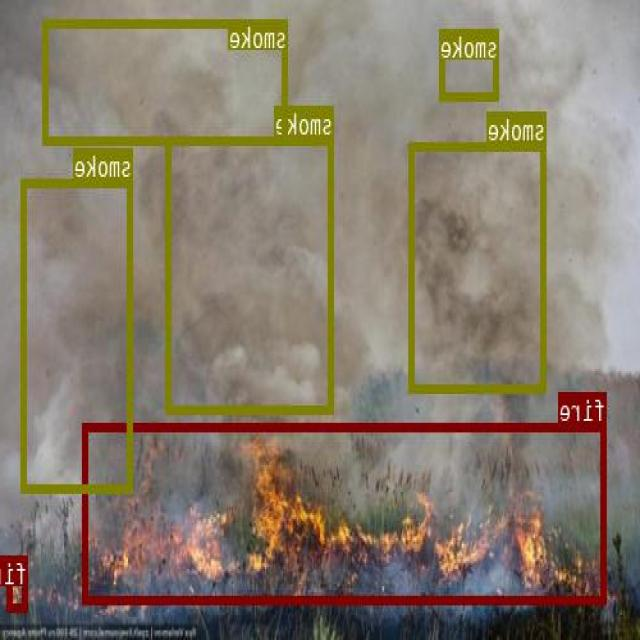fire: (84, 423, 608, 603), (8, 554, 28, 609)
smoke: (167, 136, 334, 412), (22, 177, 134, 491), (410, 141, 548, 391), (44, 18, 289, 142), (441, 29, 500, 100)
